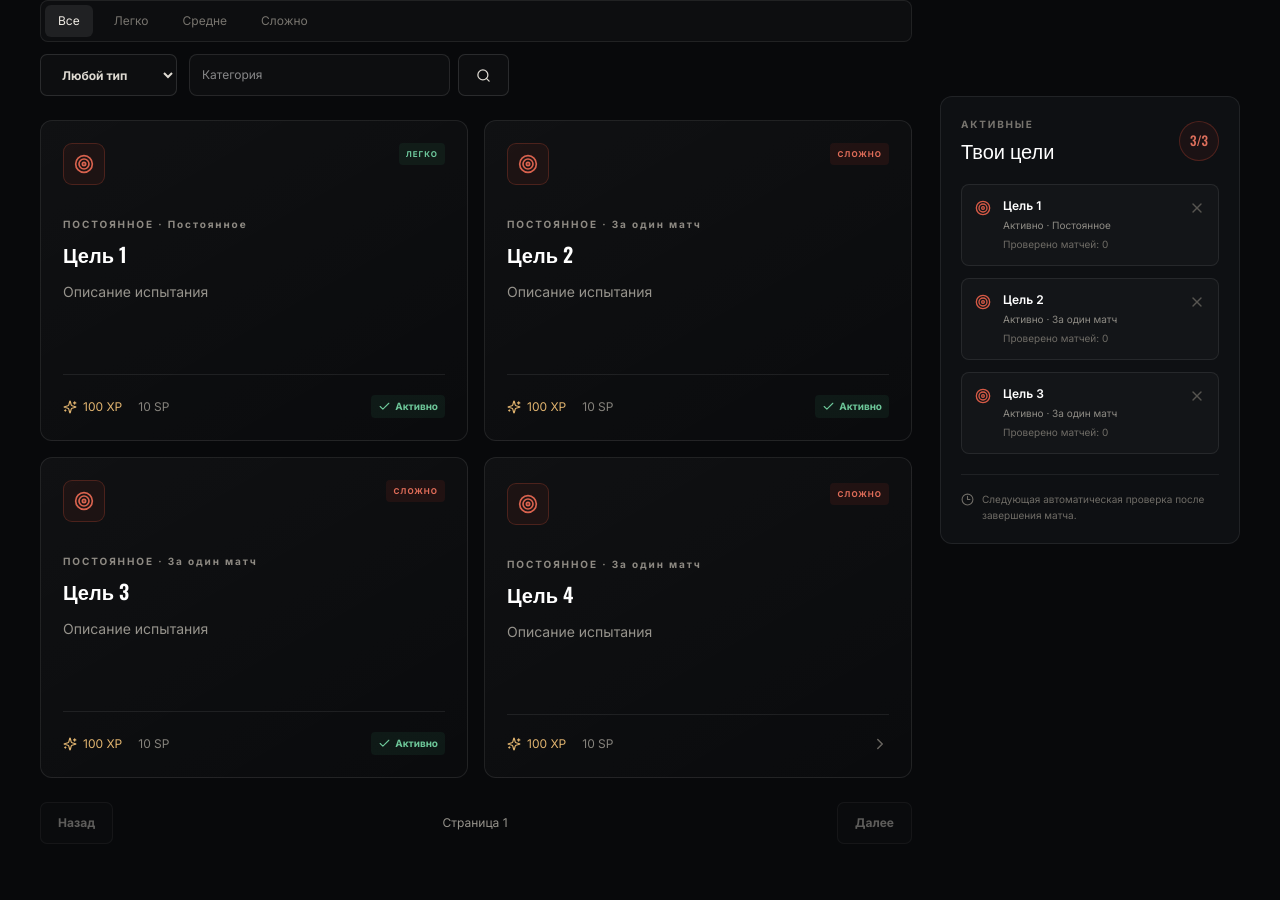
Test case: blocks a fourth activation when three slots are active
(page scrolled)
Click the button "Цель 4" at (528, 504), box [484, 457, 912, 778]
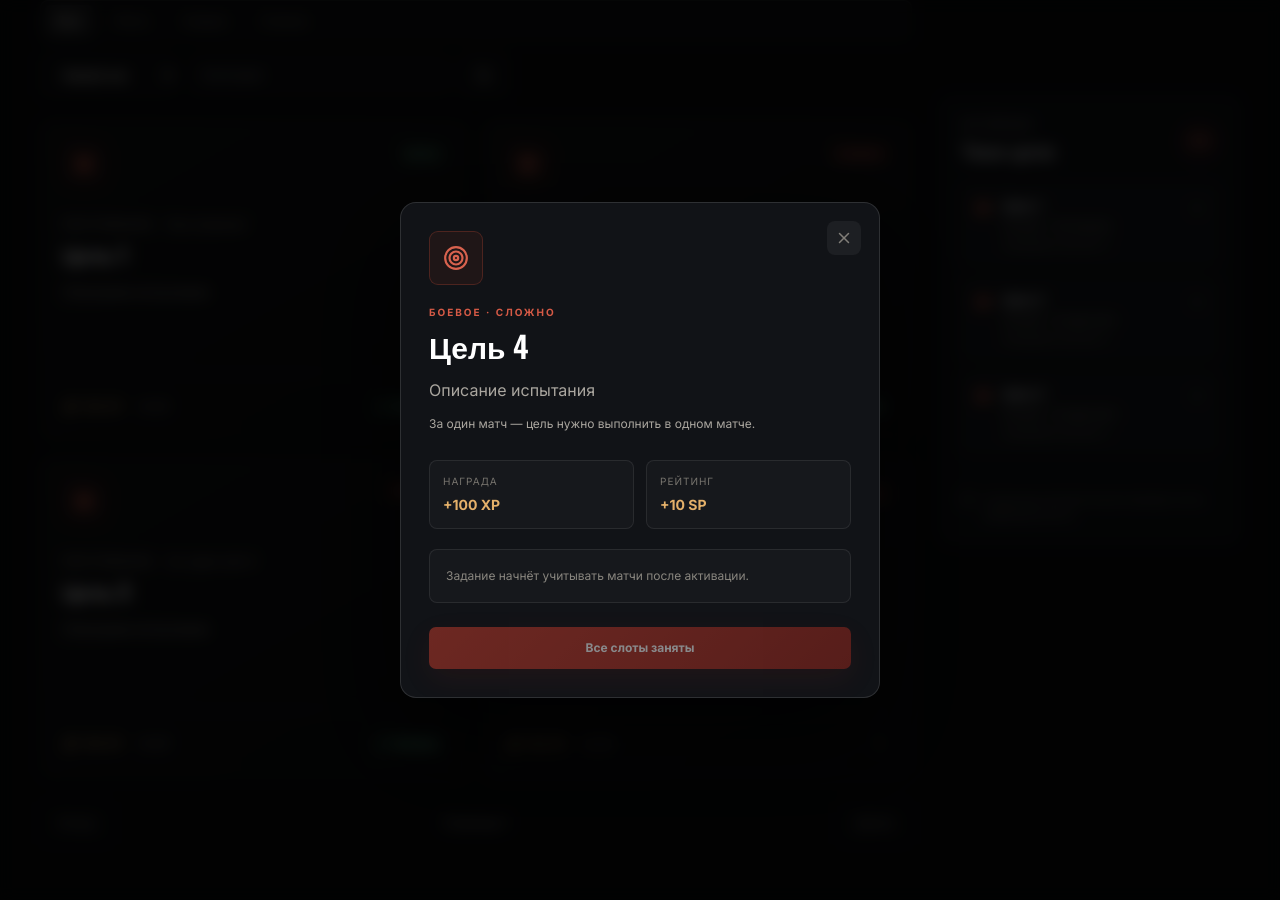
Now the button "Все слоты заняты" is disabled, box [429, 627, 851, 669]
